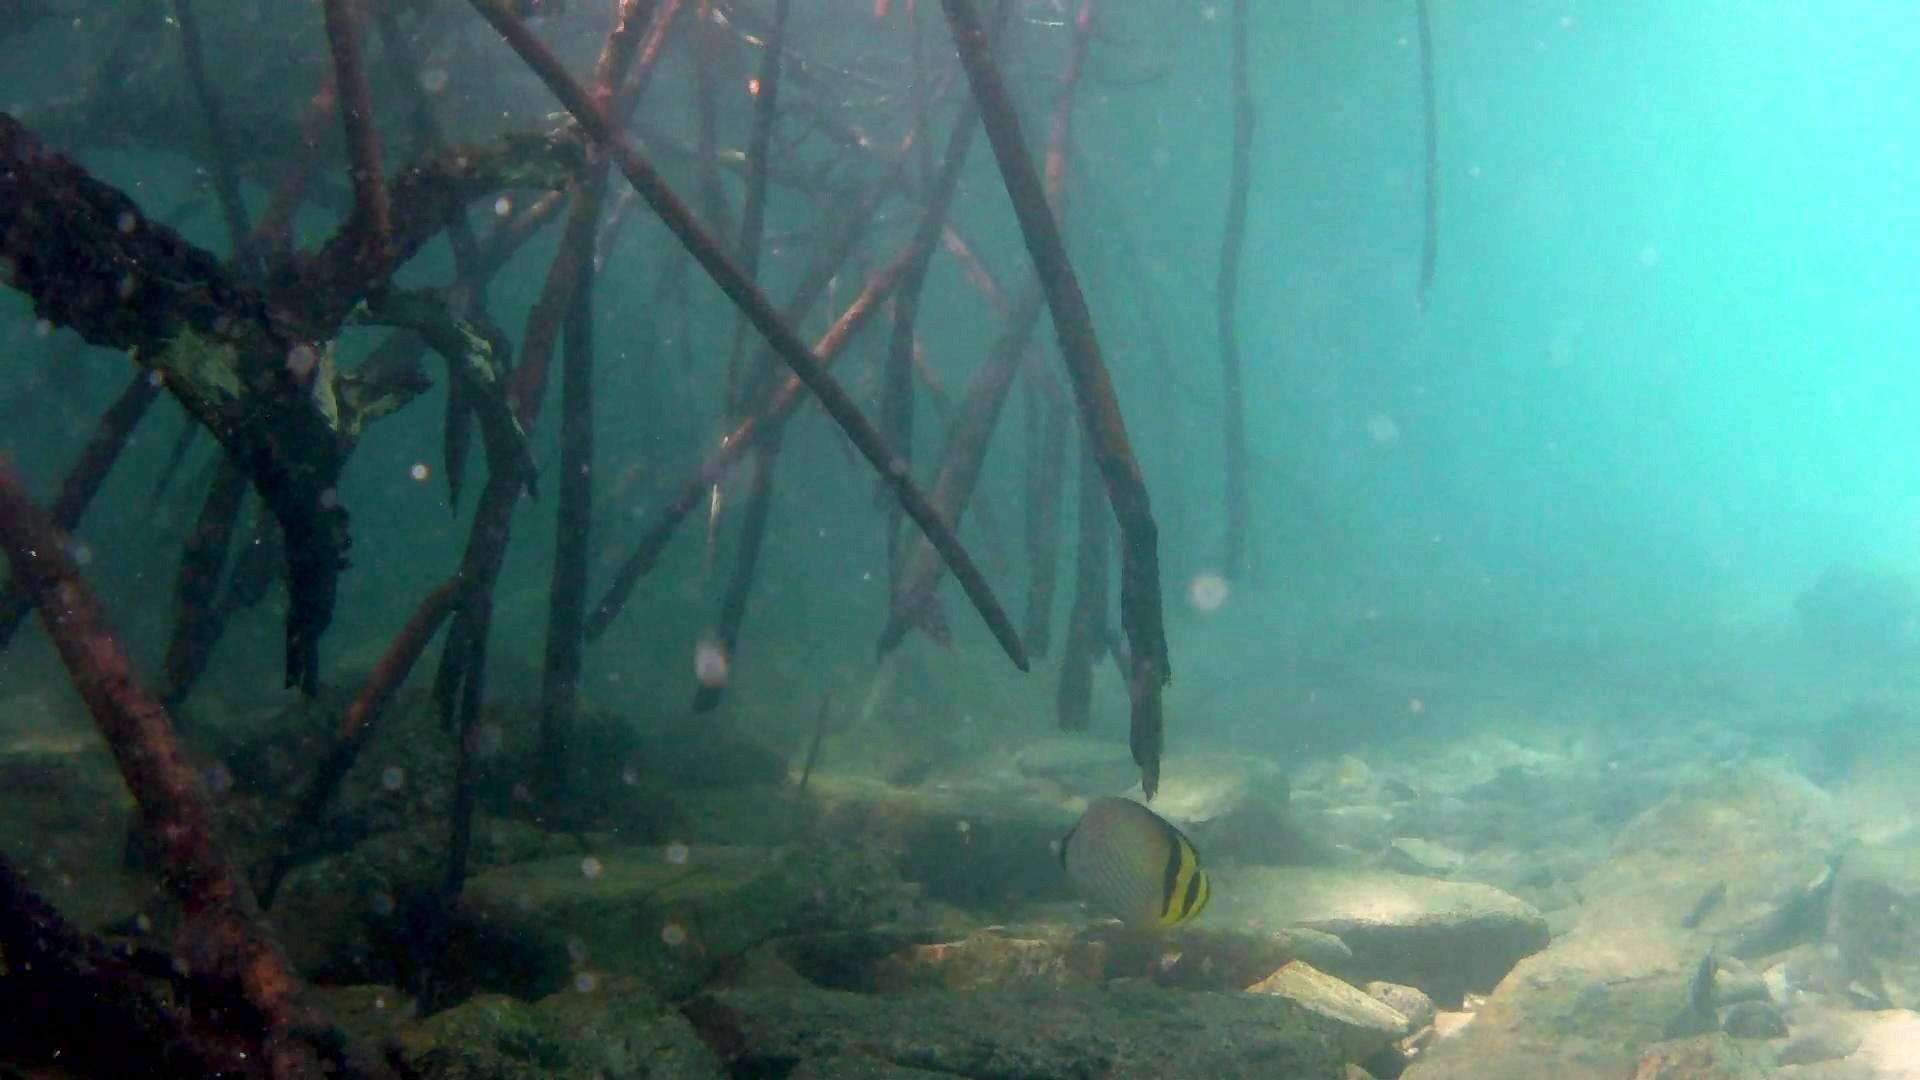chaetodon vagabundus: (1047, 790, 1215, 936)
